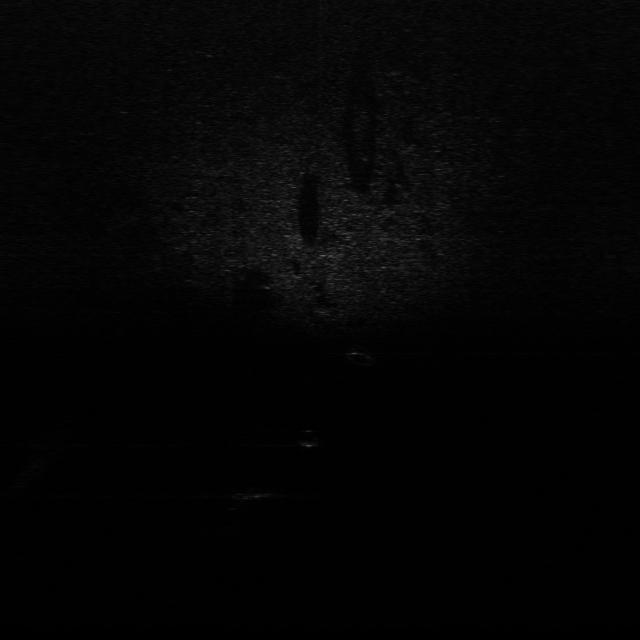ball: (296, 426, 320, 448)
square cage: (223, 484, 281, 504)
tyre: (343, 344, 382, 368)
